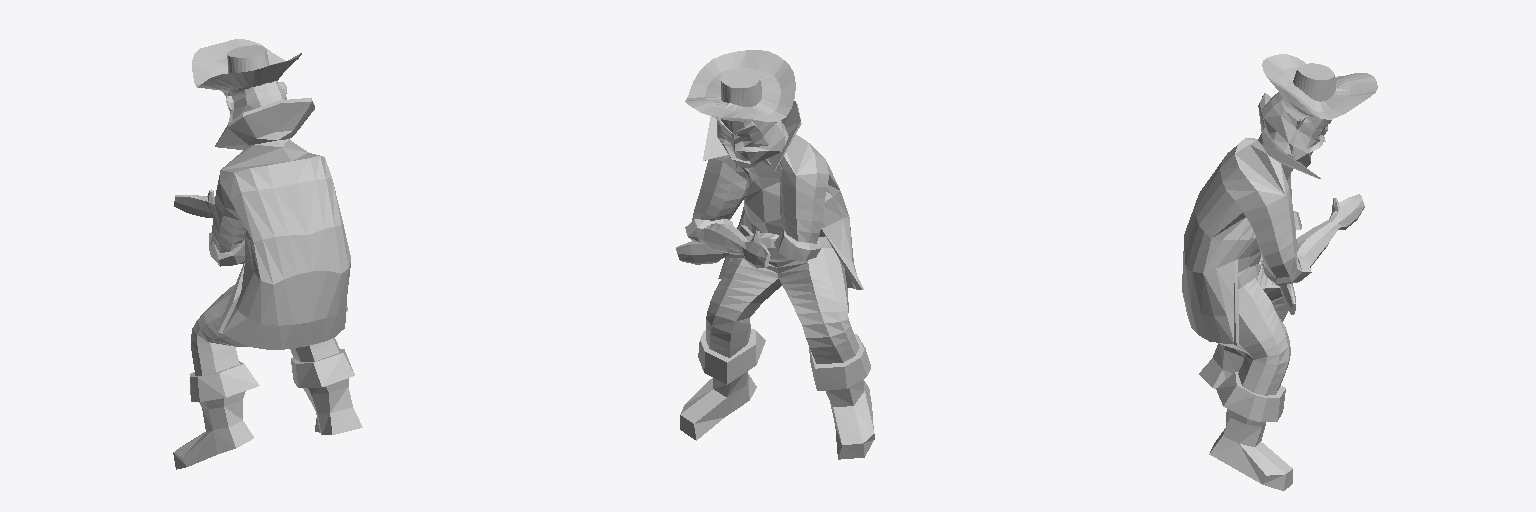
Rendered from pirata_000333.obj.
3 views of the same model, side by side, from view 1: azimuth 30°, elevation 25°; view 2: azimuth 150°, elevation 25°; view 3: azimuth 270°, elevation 25° (orthographic).
Parts seen in each view (by area): view 1: Pirata_PirataH; view 2: Pirata_PirataH; view 3: Pirata_PirataH.
Boxes of the visible parts, x1,y1,x2,y2 form: Pirata_PirataH: [173, 39, 362, 469]; Pirata_PirataH: [676, 50, 874, 459]; Pirata_PirataH: [1182, 54, 1377, 490].
Bounding box in the file's own units: 4.44 × 9.23 × 4.18.